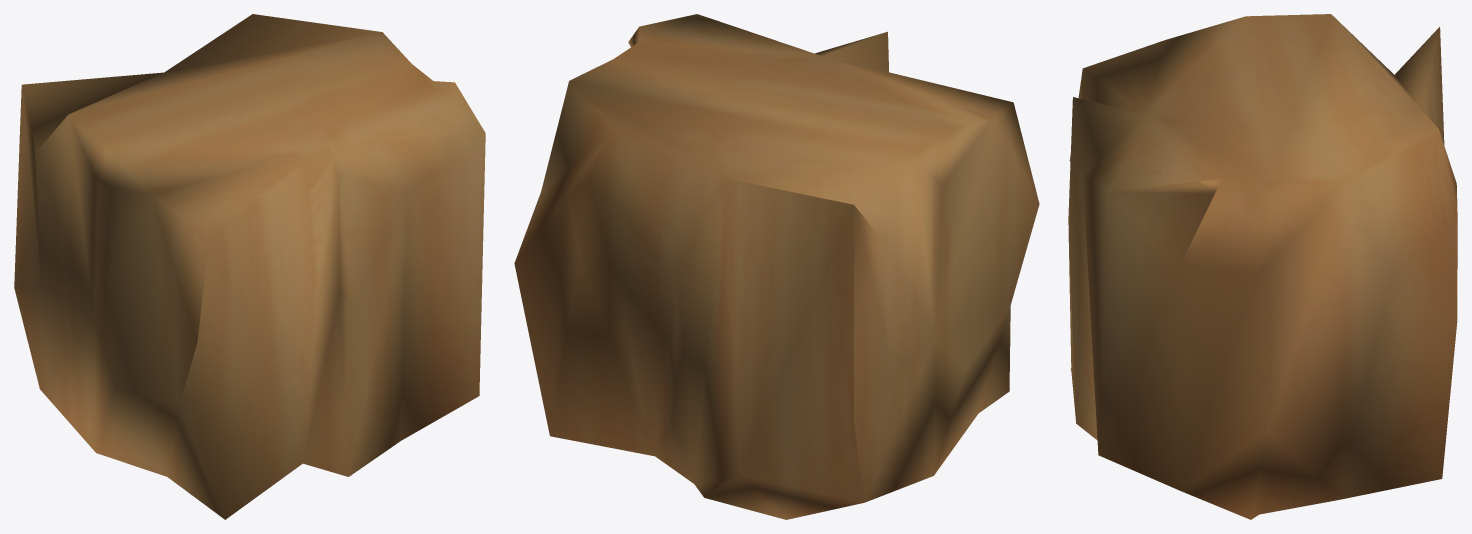
Rendered from textures.glb.
The picture shows the model from 3 angles, left to right: view 1: azimuth 30°, elevation 25°; view 2: azimuth 150°, elevation 25°; view 3: azimuth 270°, elevation 25°; orthographic projection. The views are drawn at different scales.
Parts seen in each view (by area): view 1: tripo_node_50c28cb3-4879-4b6e-b452-8f6de2c40a10; view 2: tripo_node_50c28cb3-4879-4b6e-b452-8f6de2c40a10; view 3: tripo_node_50c28cb3-4879-4b6e-b452-8f6de2c40a10.
Boxes of the visible parts, x1,y1,x2,y2 form: tripo_node_50c28cb3-4879-4b6e-b452-8f6de2c40a10: (14,14,485,519); tripo_node_50c28cb3-4879-4b6e-b452-8f6de2c40a10: (514,14,1039,519); tripo_node_50c28cb3-4879-4b6e-b452-8f6de2c40a10: (1068,14,1457,519).
Size of the model in its own units: 1 by 0.9782 by 0.9701.
1 material, 1 textured.
